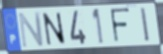1: (91, 8, 105, 47)
4: (70, 9, 88, 47)
F: (109, 7, 131, 45)
I: (139, 6, 151, 44)
N: (17, 11, 45, 49), (41, 12, 67, 47)
